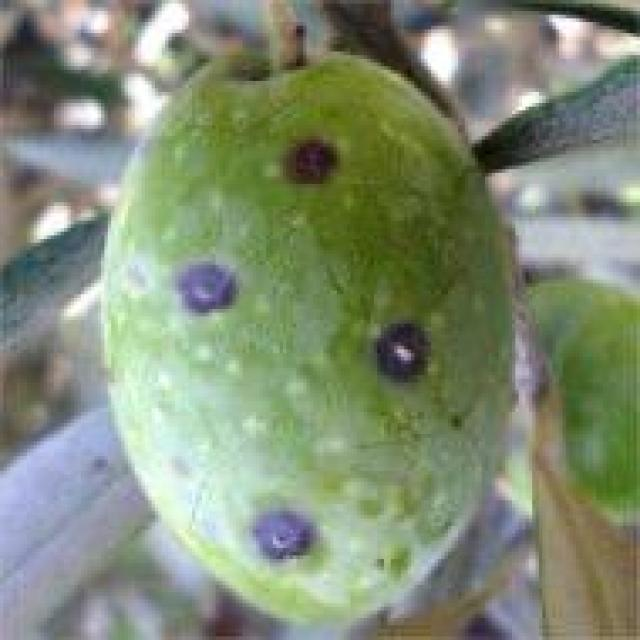Olive Fruit Fly: (104, 59, 515, 633)
